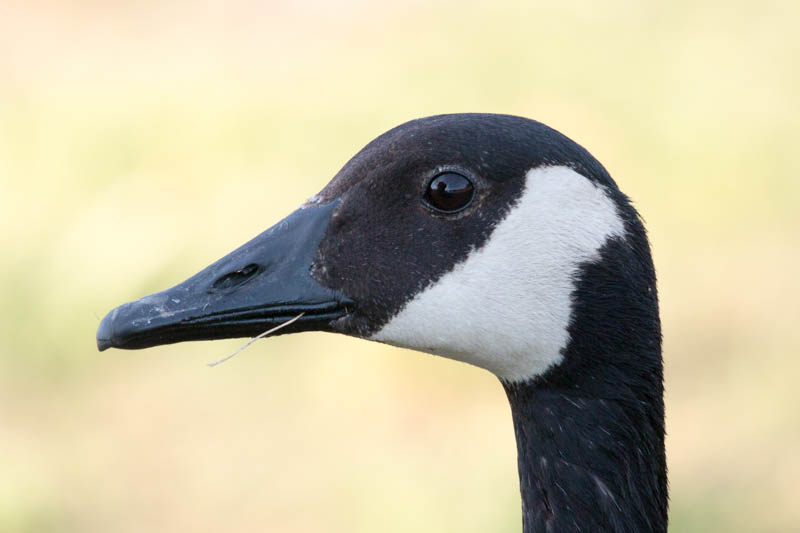goose-head: (96, 113, 664, 383)
